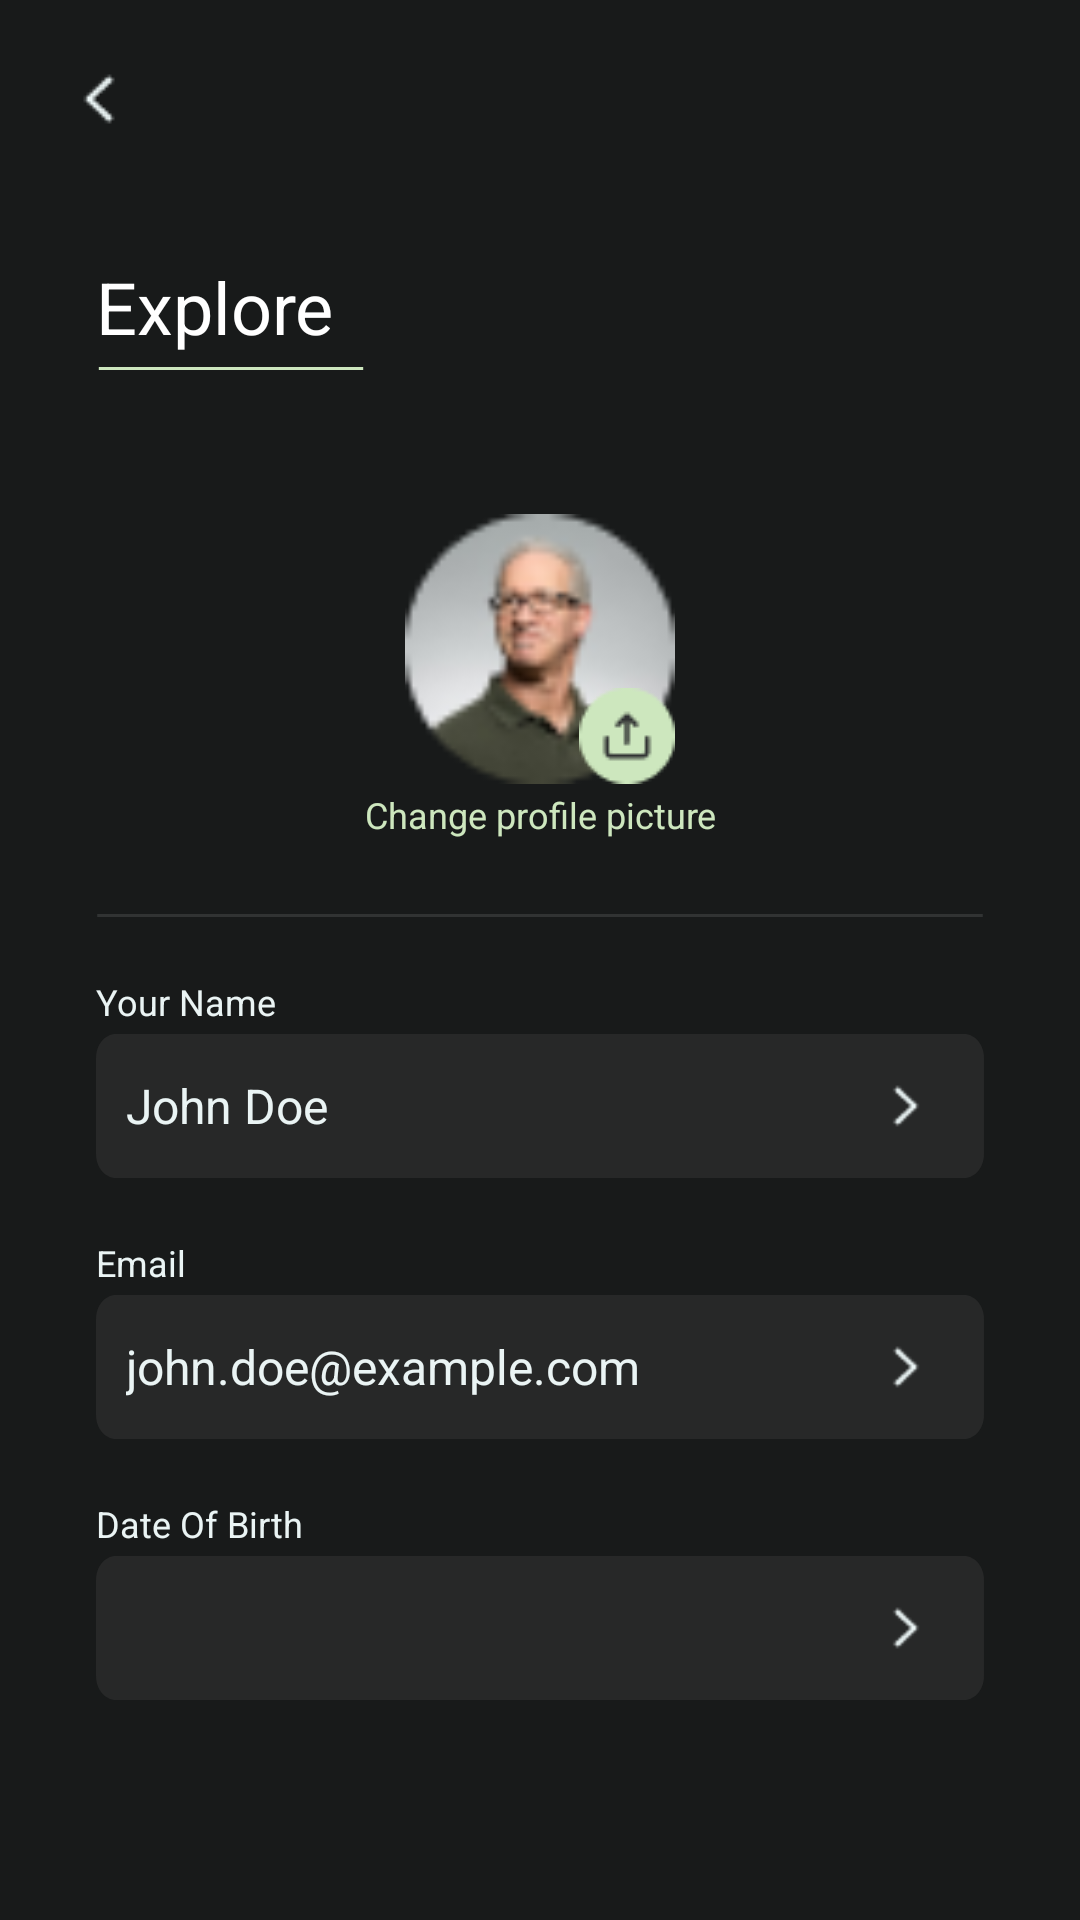

Point at icon controls on the screen. Image size 1080x1920, points as [x,y].
back: [99,99]
next forward: [905,1106], [905,1367], [905,1628]
